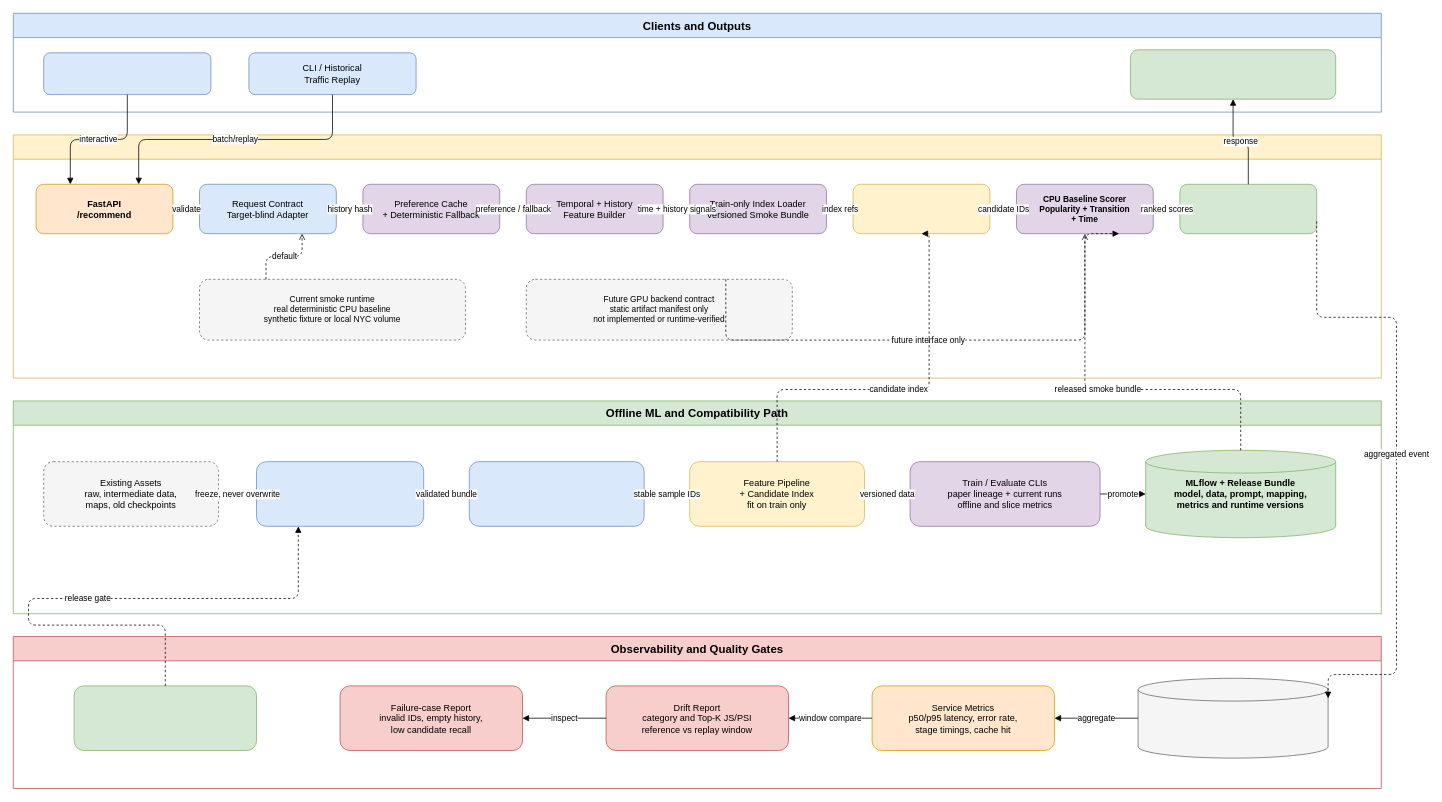
Some shapes in this 1442 by 802 pixel diagram are drawn without their labels. Each missing label, with the box of its shape:
Candidate Generator Train-only Index: (852, 184, 990, 234)
CI Quality Gates code, data, model, API CPU tiny fixture: (73, 685, 256, 750)
Manifest + Schema Validator hashes and provenance: (256, 461, 424, 526)
Online Recommendation Path: (13, 134, 1381, 378)
Preserve Original Split + overlap/time audit warm-start protocol: (469, 461, 644, 526)
Privacy-safe Events request ID + aggregates only no raw trajectory or user ID: (1137, 678, 1328, 758)
Streamlit Demo or Web Client: (43, 52, 211, 95)
Top-K POIs + Categories Scores, Versions, Latency: (1130, 49, 1336, 99)
Top-K Postprocessor Deduplicate + Validate: (1179, 184, 1317, 234)
